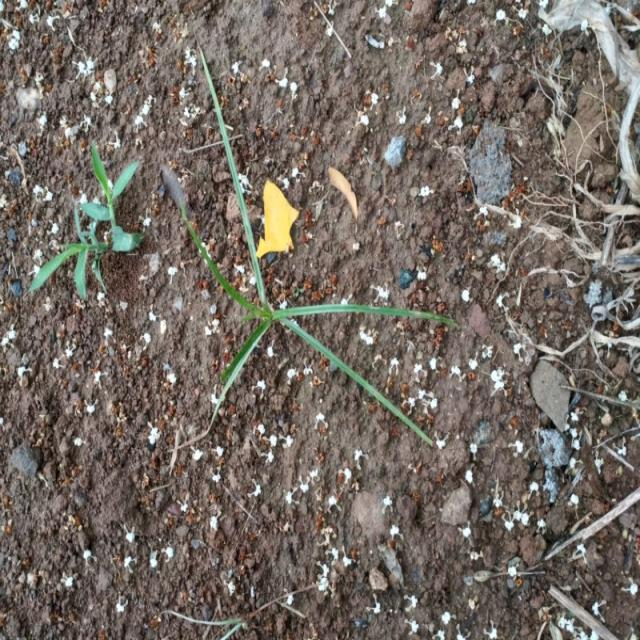sedge: (160, 83, 418, 465)
